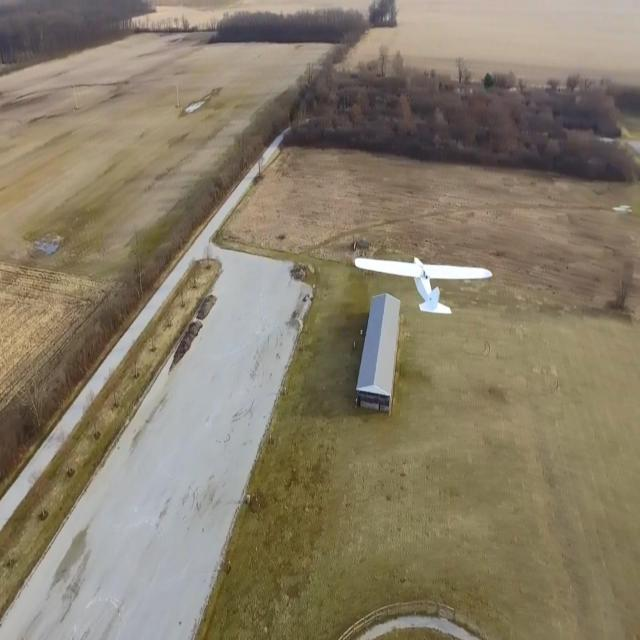iha: (366, 272, 495, 290)
